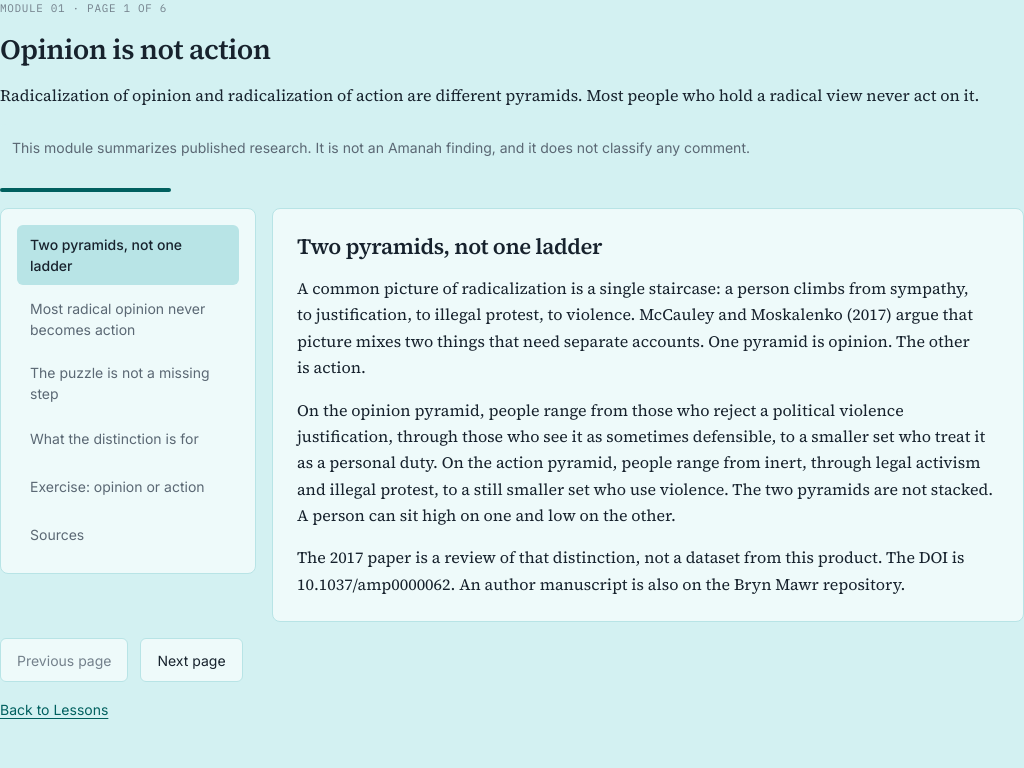
Scenario: LessonReaderPage › places a distinct exercise with a named control on sampled modules
Click the button "Exercise: opinion or action" at point(128, 487), box left=17, top=465, right=239, bottom=509
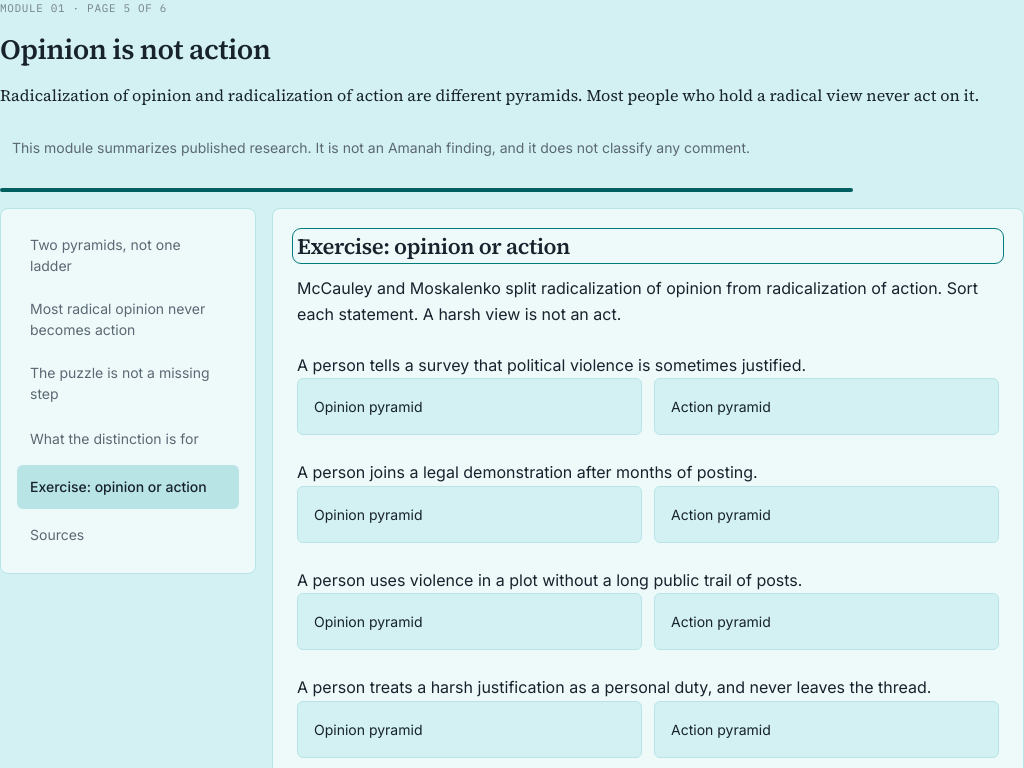
Result: the 1st button "Opinion pyramid" is shown at left=297, top=378, right=642, bottom=435
Result: the 1st button "Action pyramid" is shown at left=654, top=378, right=999, bottom=435
